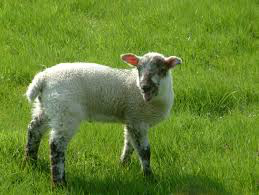koyun: (27, 52, 182, 178)
